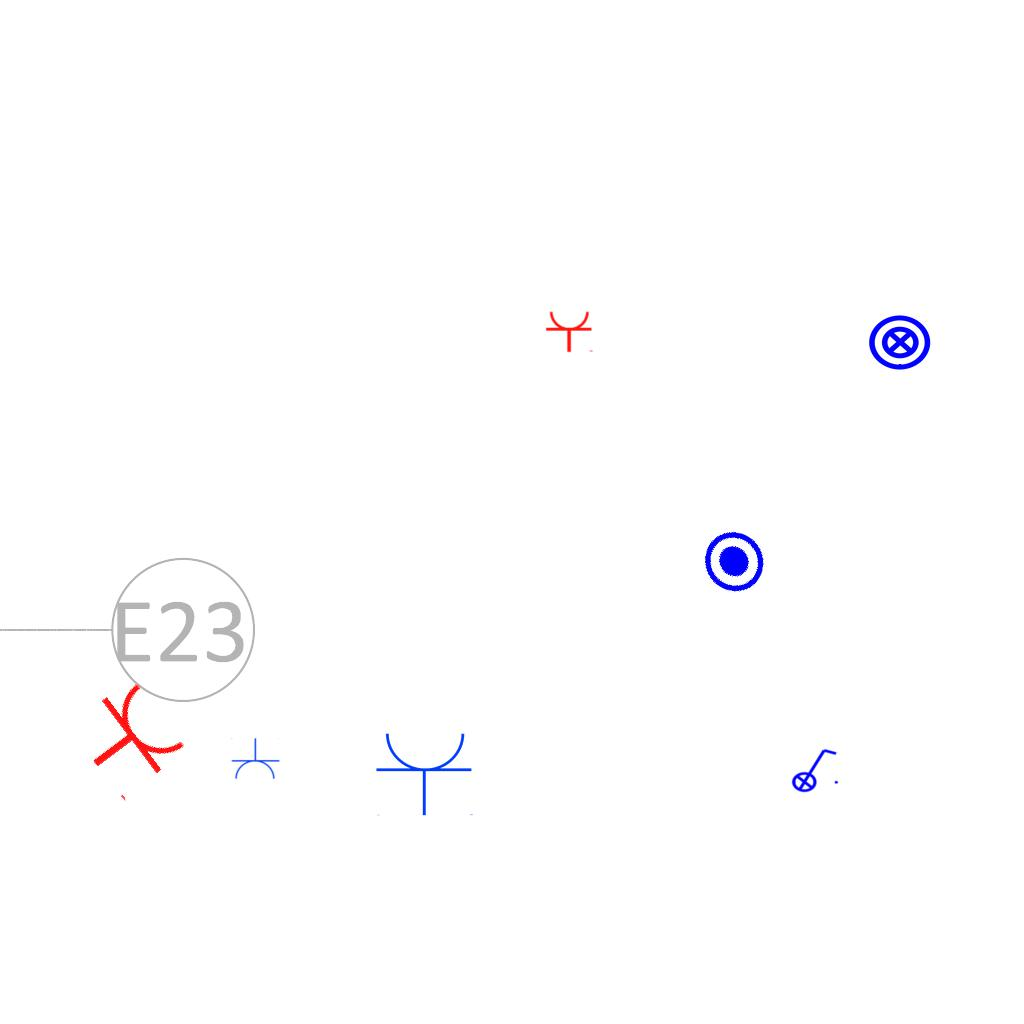Ausschalter_beleuchtet: (785, 745, 841, 793)
Schukosteckdose_einfach: (64, 673, 195, 807), (375, 729, 475, 816), (230, 738, 280, 781), (545, 310, 595, 353)
Taster: (689, 513, 783, 607)
Taster_beleuchtet: (867, 309, 933, 375)
